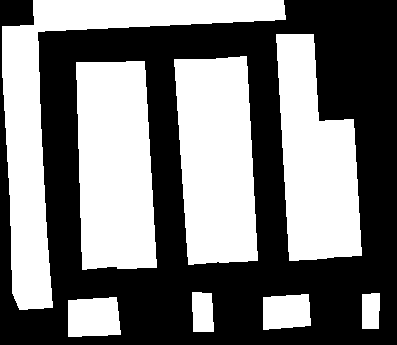parkingspot: (2, 25, 52, 309), (276, 34, 326, 260), (107, 61, 156, 268), (209, 56, 257, 262), (174, 59, 222, 264), (76, 62, 121, 269), (33, 0, 285, 31), (315, 119, 361, 257), (68, 297, 120, 336), (263, 294, 310, 329), (192, 292, 213, 331), (362, 293, 379, 328)
